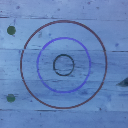Axe Tip: (115, 83, 125, 87)
